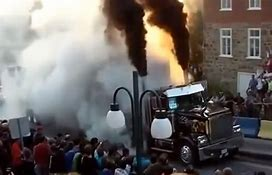smoke: (100, 1, 148, 75), (148, 1, 190, 70)
